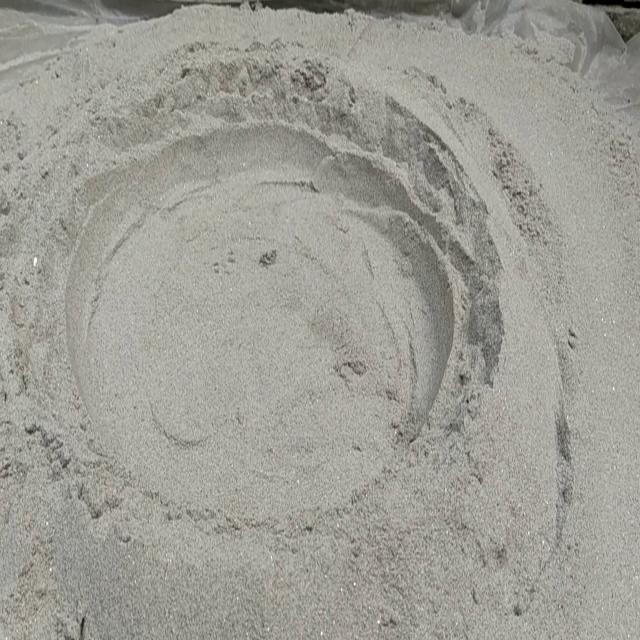C40: (75, 101, 478, 525)
